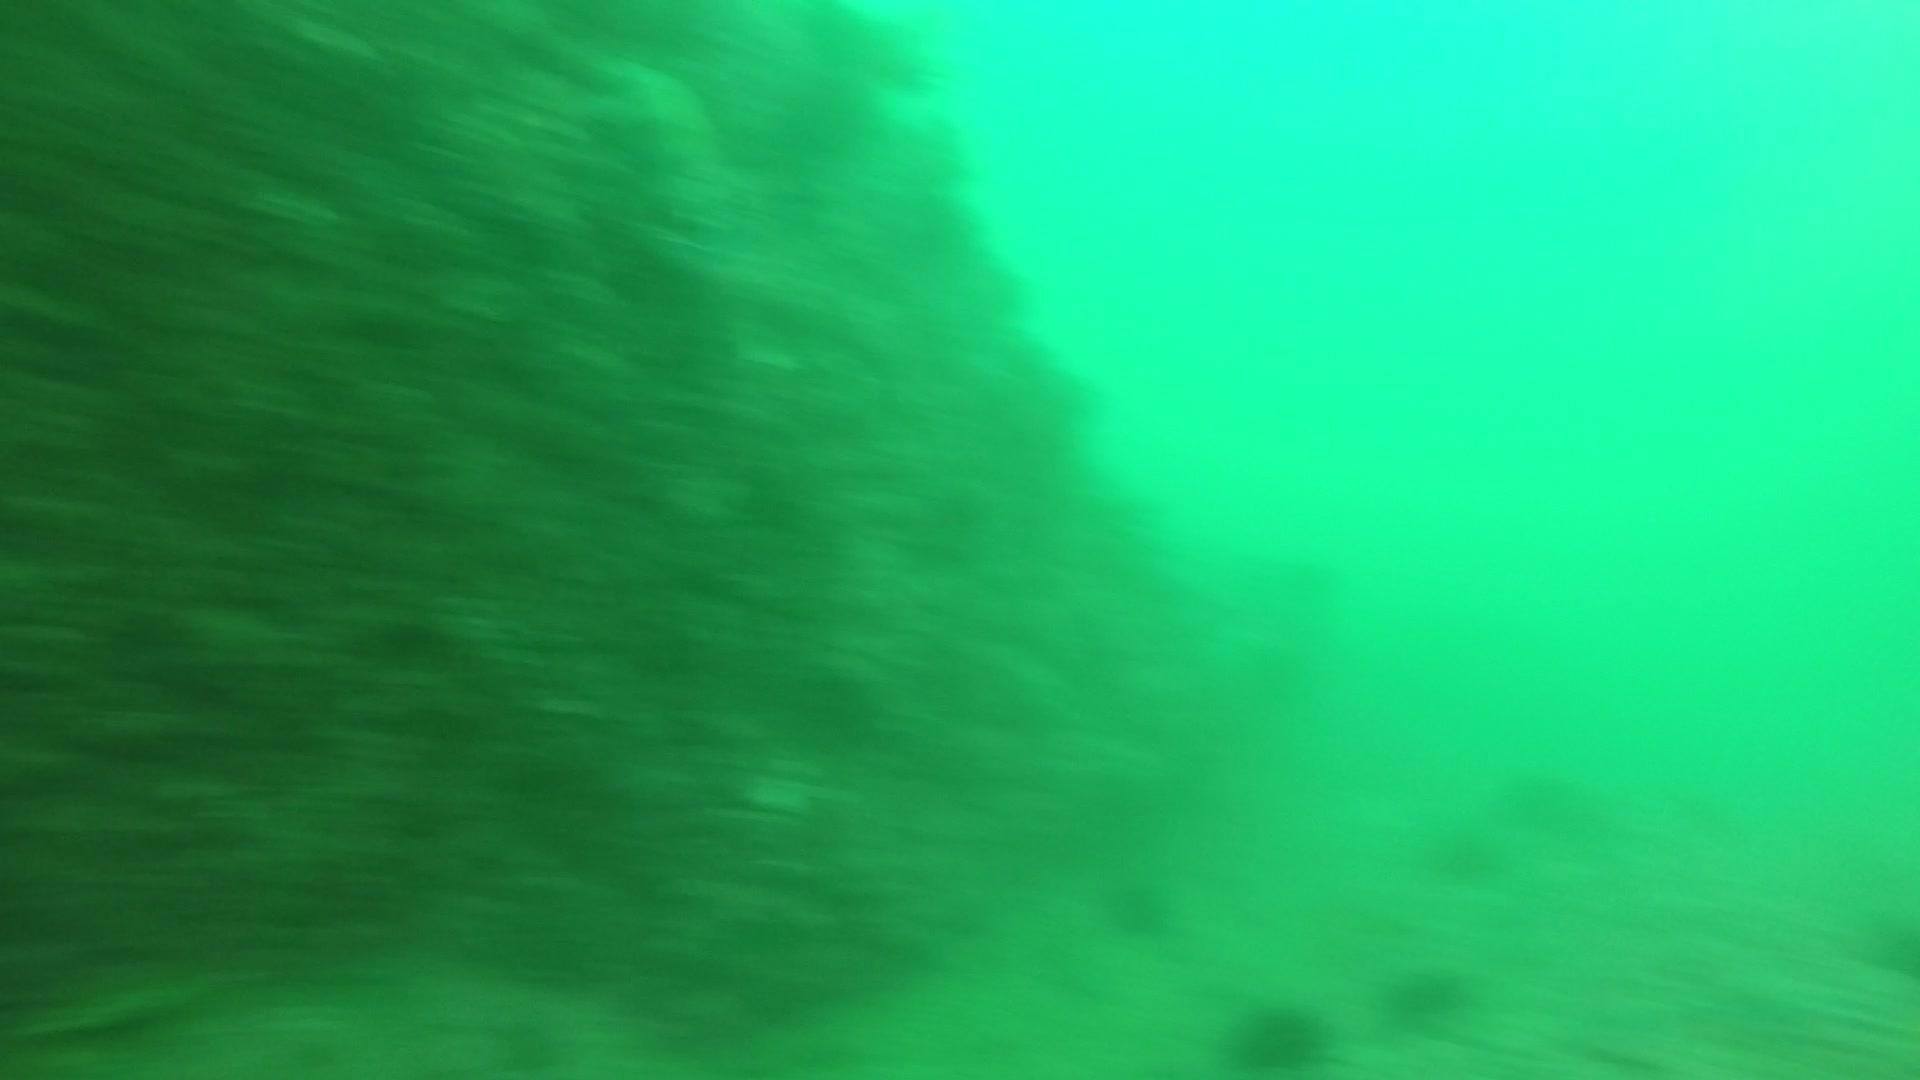echinus: (1495, 758, 1611, 843), (1218, 993, 1335, 1072), (1379, 953, 1476, 1030), (1096, 866, 1182, 944), (1419, 814, 1509, 887)
